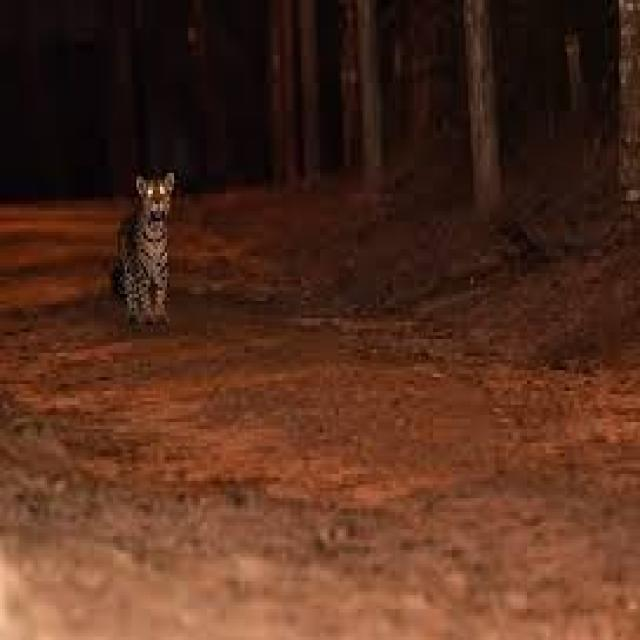Jaguar: (108, 170, 186, 336)
